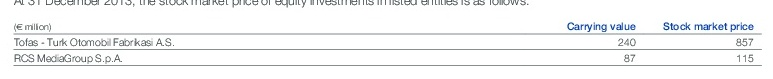table: (0, 0, 773, 79)
